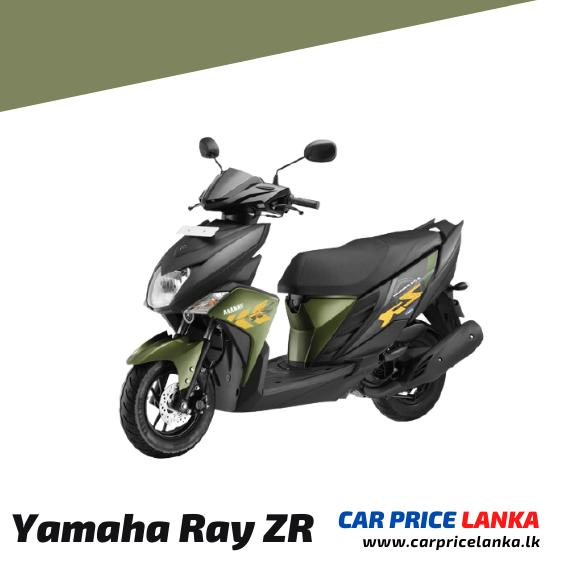motorbike: (118, 138, 484, 459)
